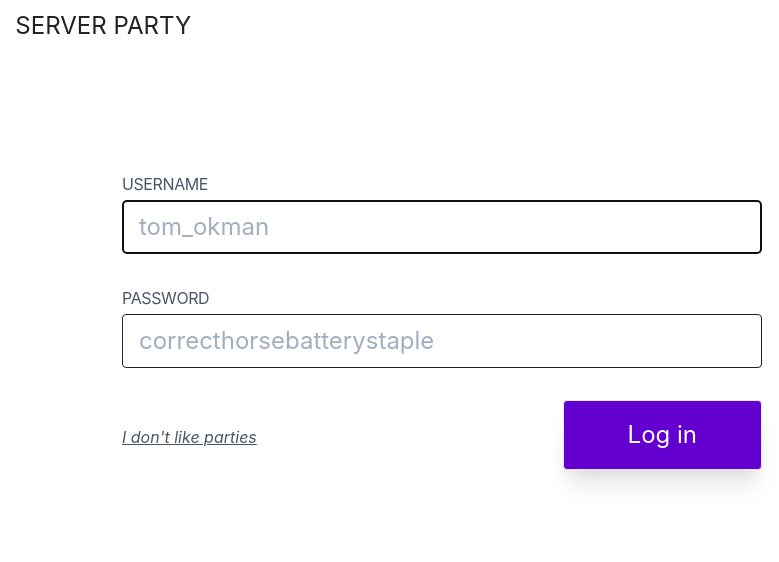
Test: Login › Disables & disallows the Login button if there was an error
Click the button with test id "login-button": (662, 435) [563,400,762,470]
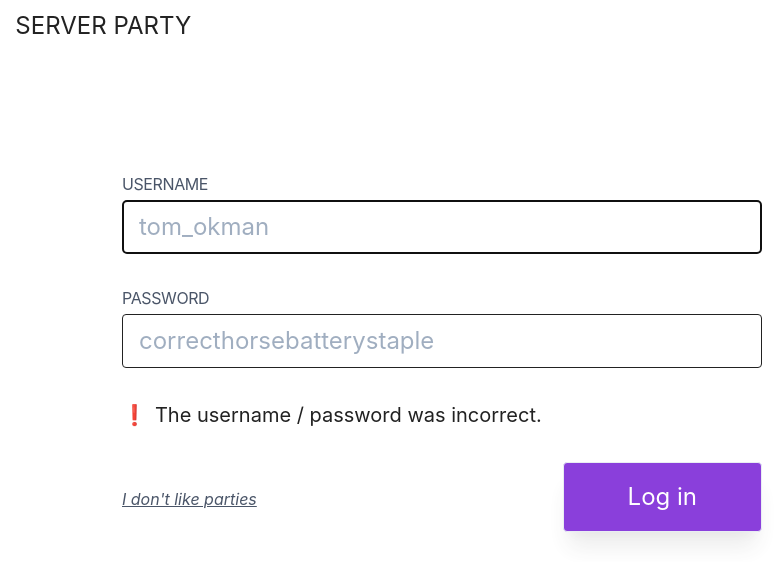
Now the button with test id "login-button" is disabled, box [563,462,762,532]
